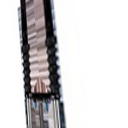Fork: (16, 6, 83, 128)
